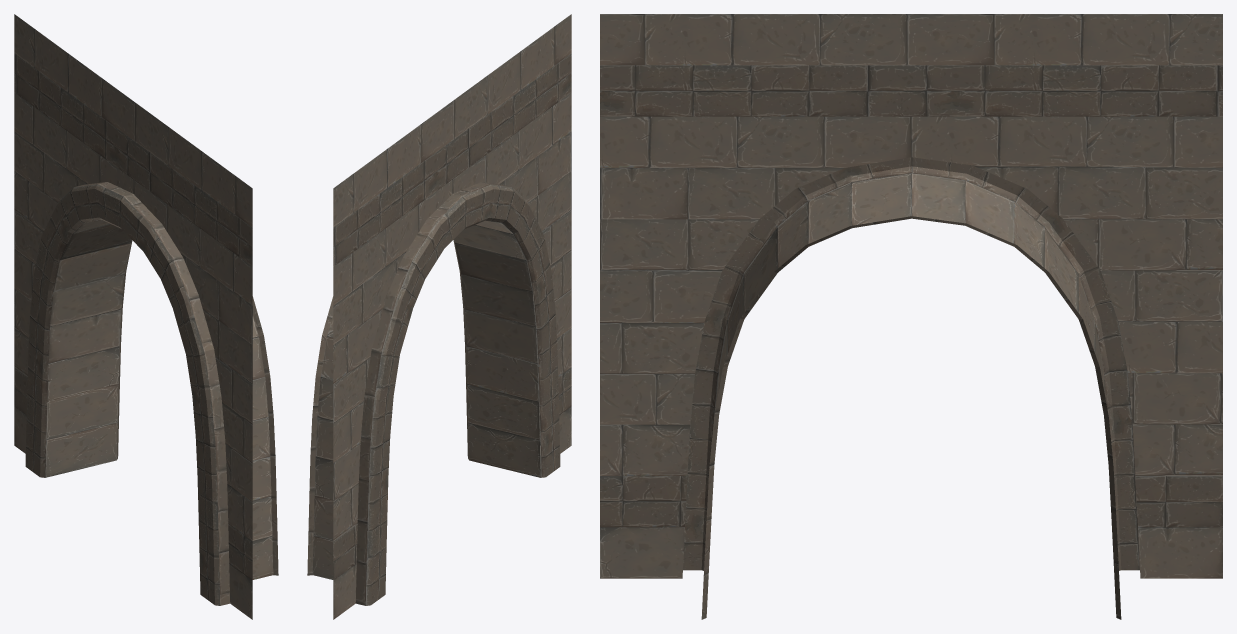
File: Ruins_ArchWall_Intact_01a 1.fbx
The picture shows the model from 3 angles, left to right: view 1: azimuth 30°, elevation 25°; view 2: azimuth 150°, elevation 25°; view 3: azimuth 270°, elevation 25°; orthographic projection. The views are drawn at different scales.
Parts seen in each view (by area): view 1: Ruins_ArchWall_Intact_01a; view 2: Ruins_ArchWall_Intact_01a; view 3: Ruins_ArchWall_Intact_01a.
Part boxes in pixels (x1,y1,x2,y2): Ruins_ArchWall_Intact_01a: (14,14,278,619); Ruins_ArchWall_Intact_01a: (307,14,571,619); Ruins_ArchWall_Intact_01a: (600,14,1222,619).
Bounding box in the file's own units: 1.51 × 8 × 8.
